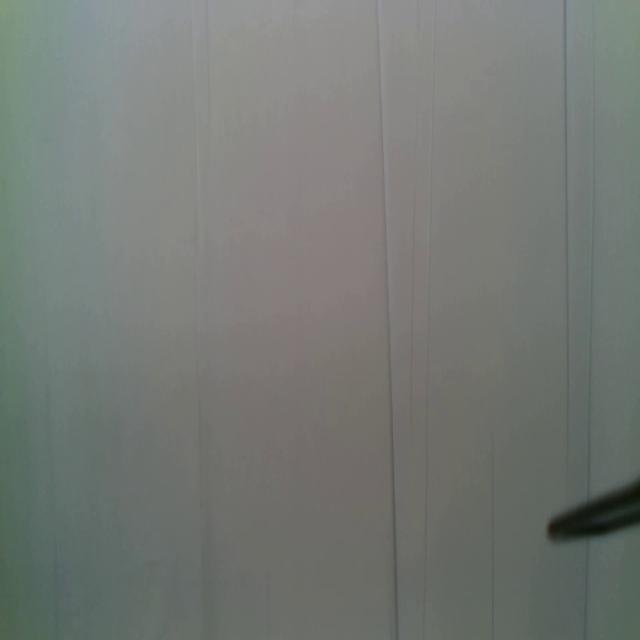crease: (374, 0, 399, 640), (189, 0, 207, 640), (422, 0, 438, 640), (585, 1, 598, 496), (408, 0, 421, 451), (561, 0, 572, 471), (489, 450, 497, 638), (582, 538, 591, 640)
